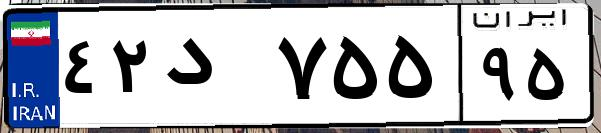2: (110, 28, 158, 98)
4: (57, 26, 110, 100)
5: (385, 28, 445, 110), (330, 28, 385, 110), (525, 38, 570, 115)
7: (270, 28, 330, 110)
9: (475, 38, 525, 113)
د: (158, 20, 270, 120)
